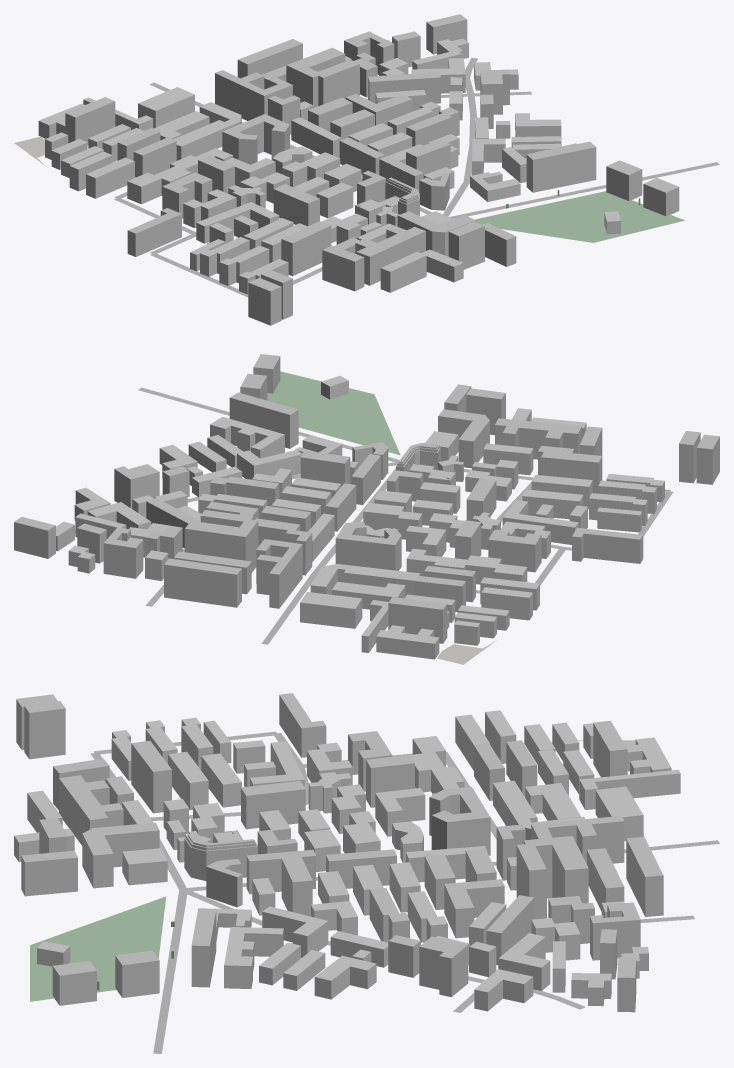
3 renders of one model, top to bottom at view 1: azimuth 30°, elevation 25°; view 2: azimuth 150°, elevation 25°; view 3: azimuth 270°, elevation 25°, orthographic. The views are drawn at different scales.
Size of the model in its own units: 629 by 48.09 by 568.
